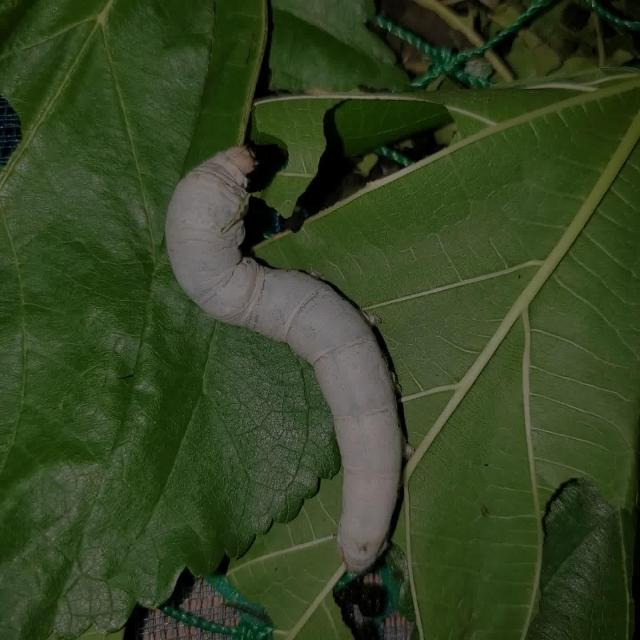Healthy: (140, 129, 430, 591)
